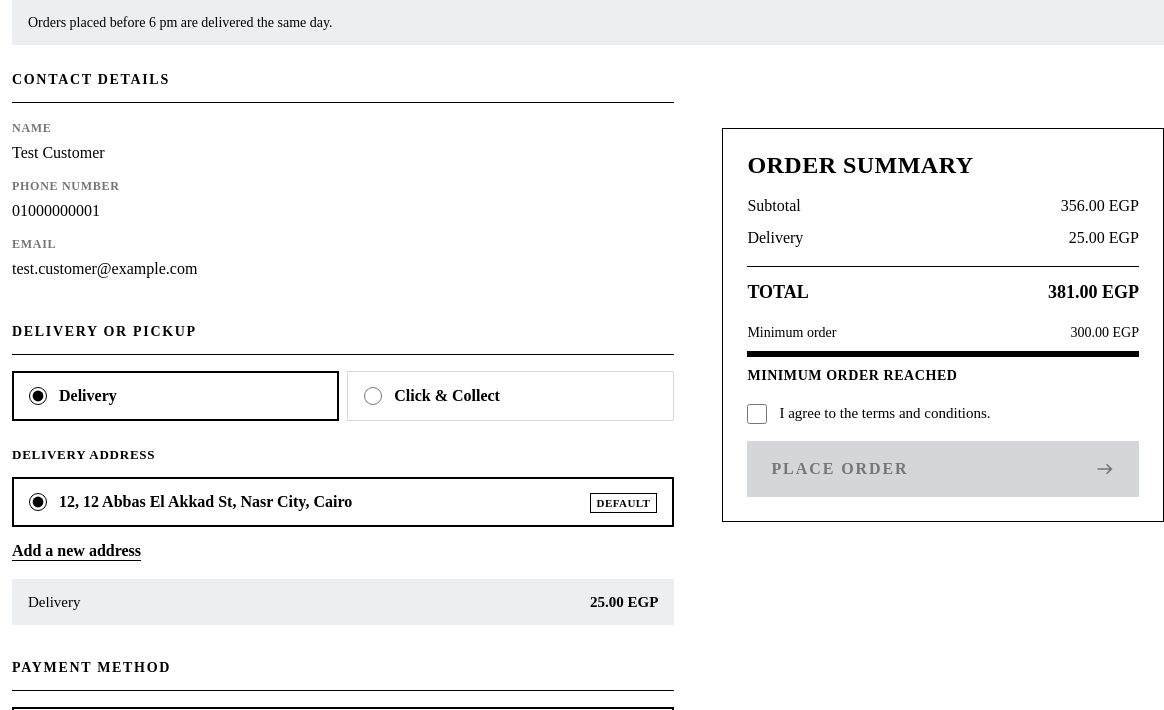
CheckoutView: changing a choice › asks the backend with the echoed choices plus the change, and shows no total until it answers
Click the radio button labelled "Click & Collect" at (373, 396), box [364, 387, 382, 405]
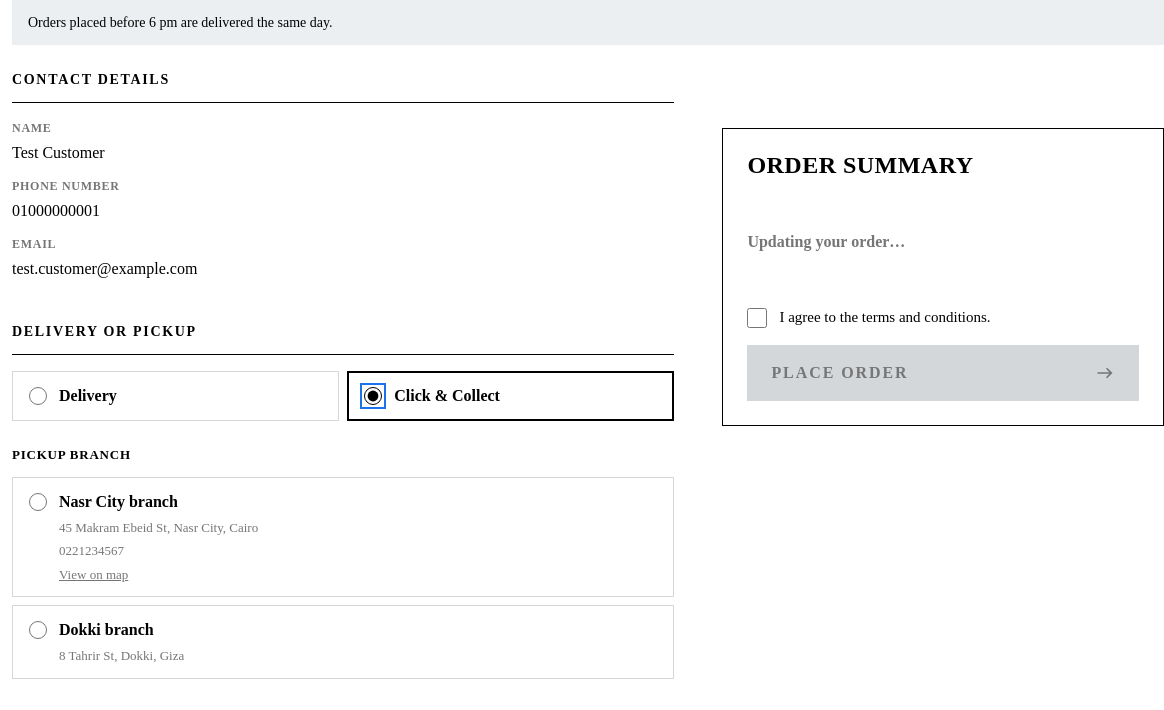
Check: the radio button labelled "Click & Collect" is checked, box [364, 387, 382, 405]
Check: the text with test id "checkout-total" is gone
Check: the element with test id "checkout-totals" is gone
Click the checkbox with test id "checkout-terms" at (757, 318), box [747, 308, 767, 328]
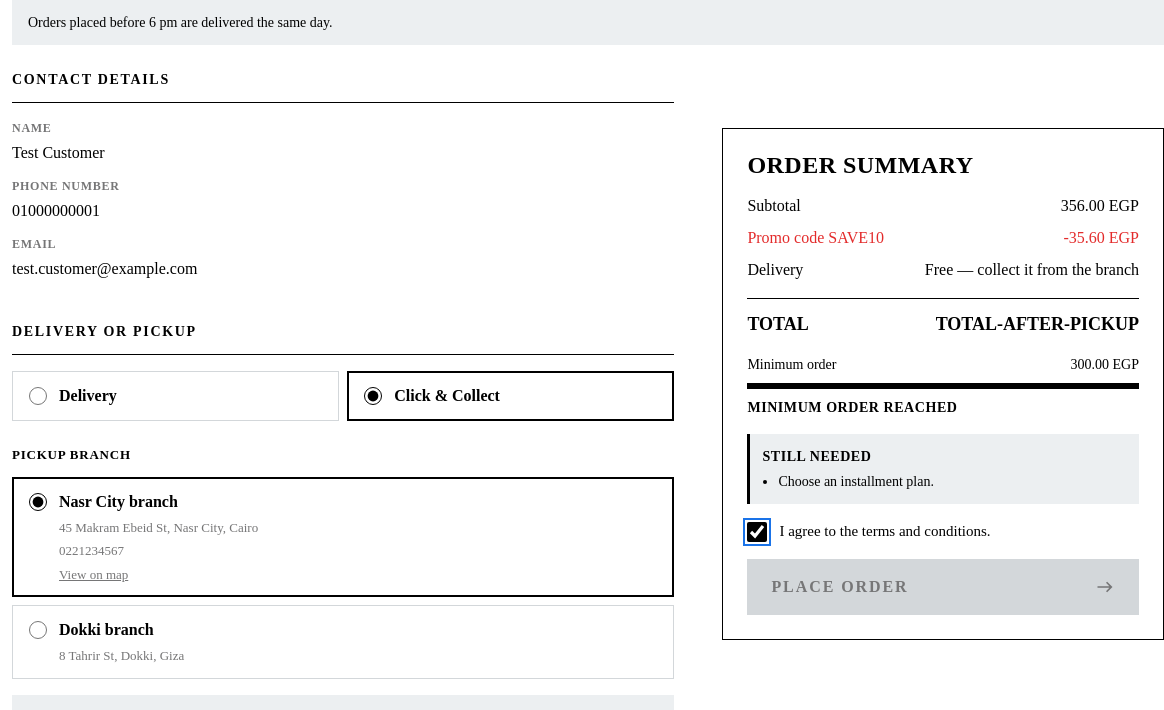
Check: the radio button labelled "Click & Collect" is checked, box [364, 387, 382, 405]
Check: the text with test id "checkout-total" reads "TOTAL-AFTER-PICKUP", box [936, 314, 1139, 334]
Check: the text with test id "checkout-updating" is gone
